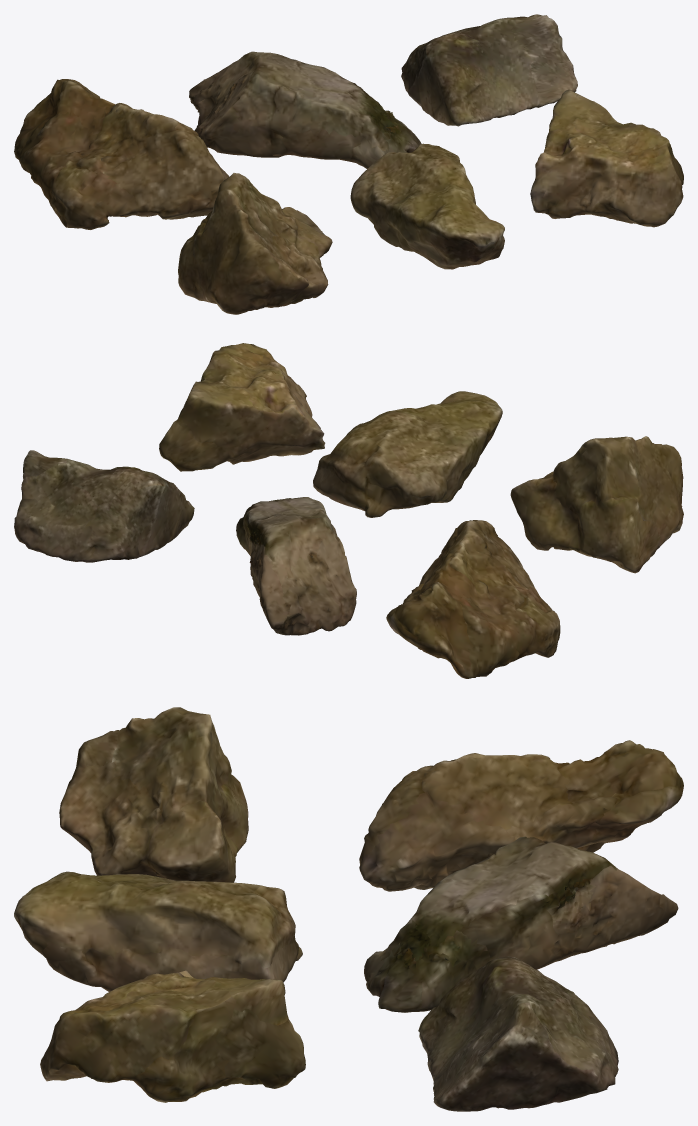
File: rock_moss_set_01.glb
3 views of the same model, one above another, from view 1: azimuth 30°, elevation 25°; view 2: azimuth 150°, elevation 25°; view 3: azimuth 270°, elevation 25° (orthographic). The views are drawn at different scales.
Parts seen in each view (by area): view 1: rock_moss_set_01_rock01; view 2: rock_moss_set_01_rock01; view 3: rock_moss_set_01_rock01.
Part boxes in pixels (x1,y1,x2,y2): rock_moss_set_01_rock01: (14,14,683,314); rock_moss_set_01_rock01: (14,343,683,678); rock_moss_set_01_rock01: (14,707,683,1111).
Bounding box in the file's own units: 8 × 1.77 × 6.95.
1 material, 1 textured.
